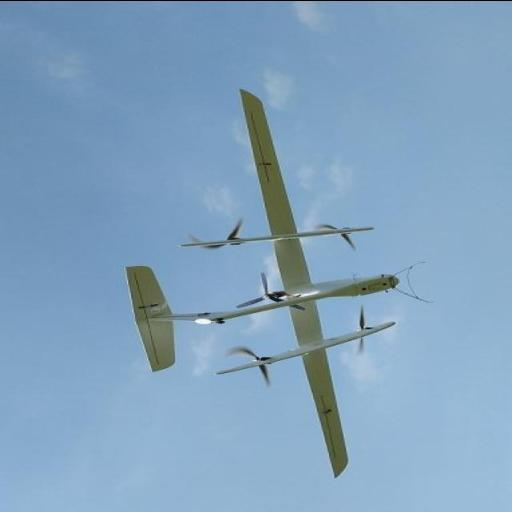uav: (115, 84, 417, 482)
